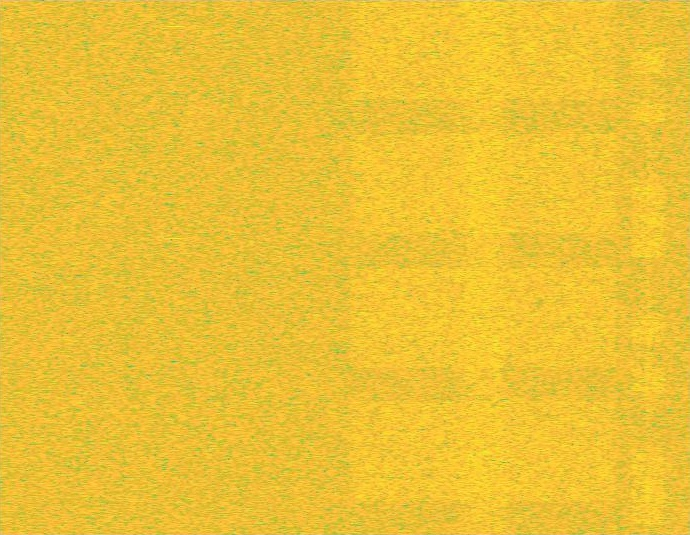5G: (346, 0, 622, 534)
DSSS: (453, 0, 515, 534), (646, 0, 651, 534)
LTE: (631, 0, 666, 534)
Radar: (168, 0, 182, 534)
